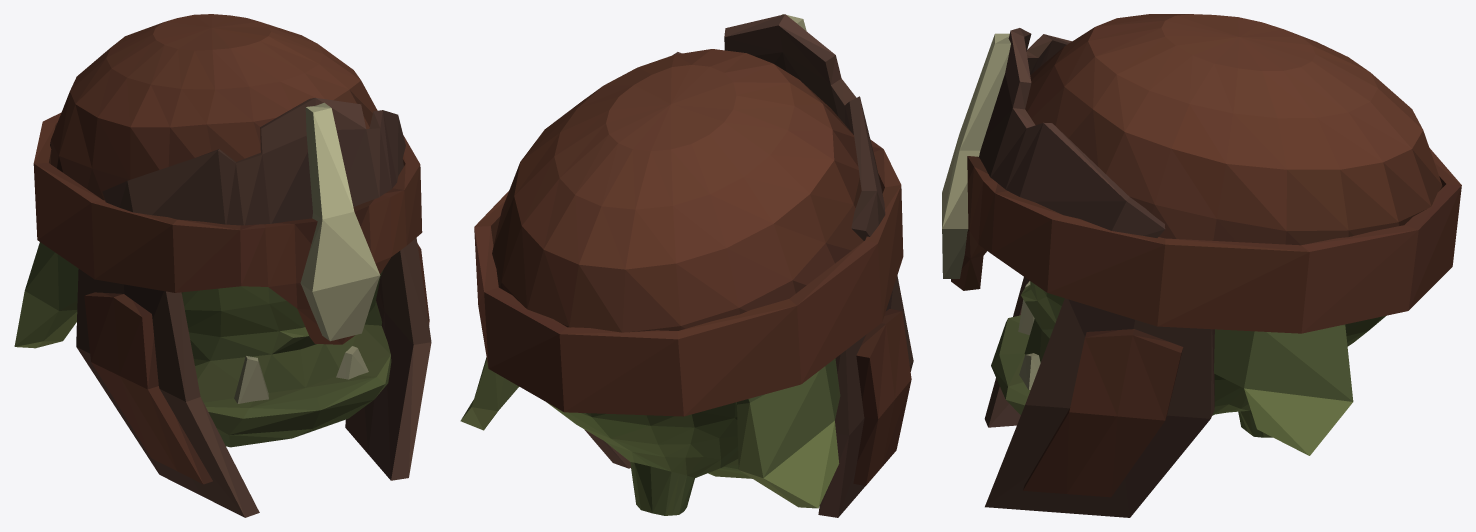
The model's file is Goblin_Green_Head_Helm_3.fbx.
3 renders of one model, left to right at view 1: azimuth 30°, elevation 25°; view 2: azimuth 150°, elevation 25°; view 3: azimuth 270°, elevation 25°, orthographic. The views are drawn at different scales.
Parts seen in each view (by area): view 1: Goblin_Green_Head_Helm_3; view 2: Goblin_Green_Head_Helm_3; view 3: Goblin_Green_Head_Helm_3.
Part boxes in pixels (x1,y1,x2,y2): Goblin_Green_Head_Helm_3: (14, 14, 431, 517); Goblin_Green_Head_Helm_3: (460, 14, 913, 517); Goblin_Green_Head_Helm_3: (942, 14, 1461, 517).
Size of the model in its own units: 1.03 by 1.2 by 1.3.
